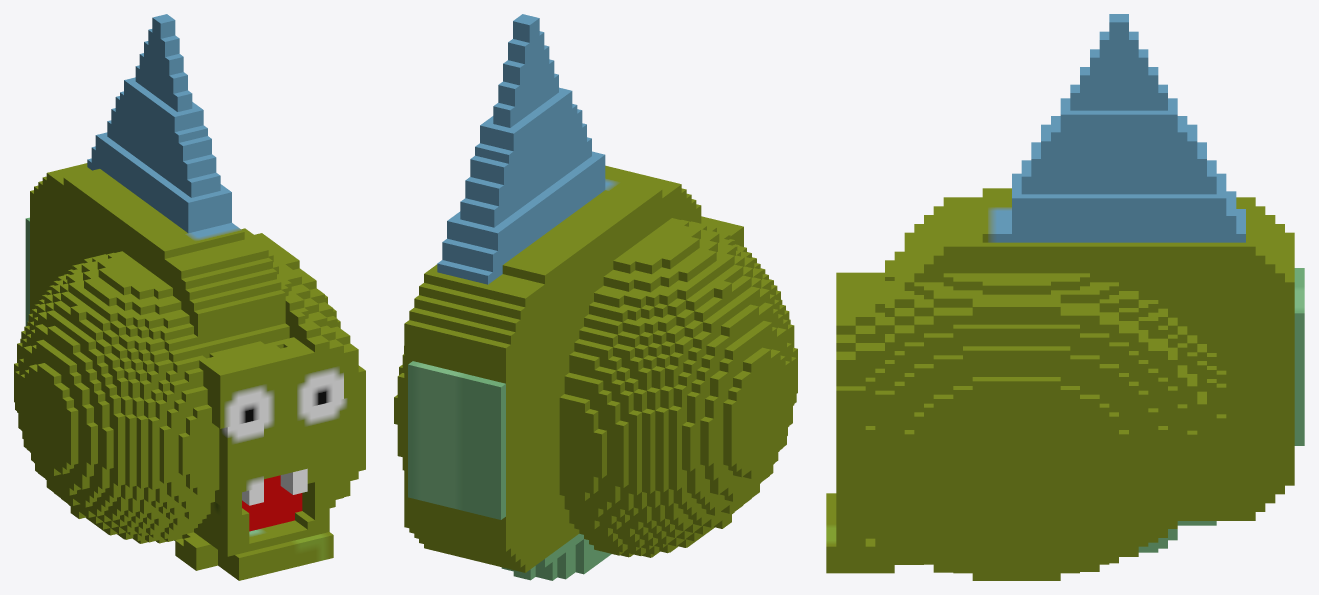
File: slime1.dae
3 views of the same model, side by side, from view 1: azimuth 30°, elevation 25°; view 2: azimuth 150°, elevation 25°; view 3: azimuth 270°, elevation 25° (orthographic). The views are drawn at different scales.
Visible parts, largest first — view 1: pl0; view 2: pl0; view 3: pl0.
Boxes of the visible parts, <box> form: pl0: <box>14,14,365,580</box>; pl0: <box>394,14,797,580</box>; pl0: <box>826,14,1304,580</box>.
Bounding box in the file's own units: 35 × 49 × 60.
